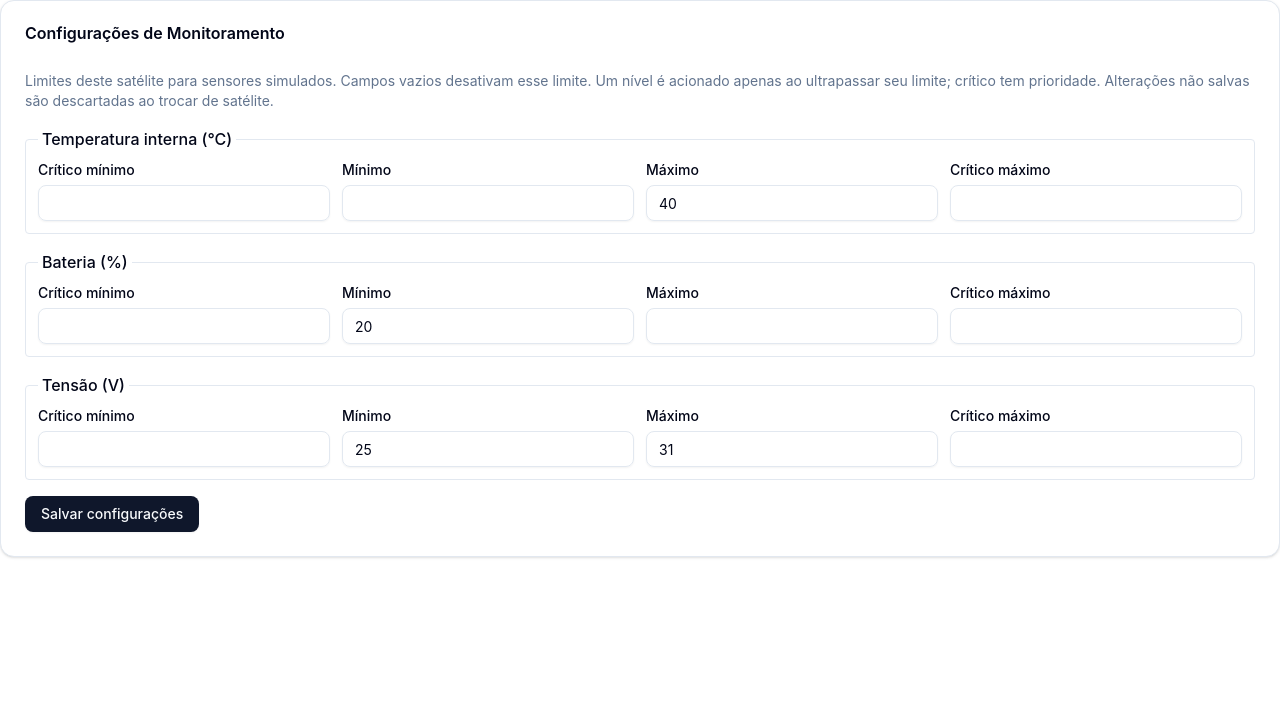
Test: US11 validation › updates the per-satellite query cache after saving
Replace the text in the 1st number field labelled "Máximo" with "75" at (792, 203), box [646, 185, 938, 221]
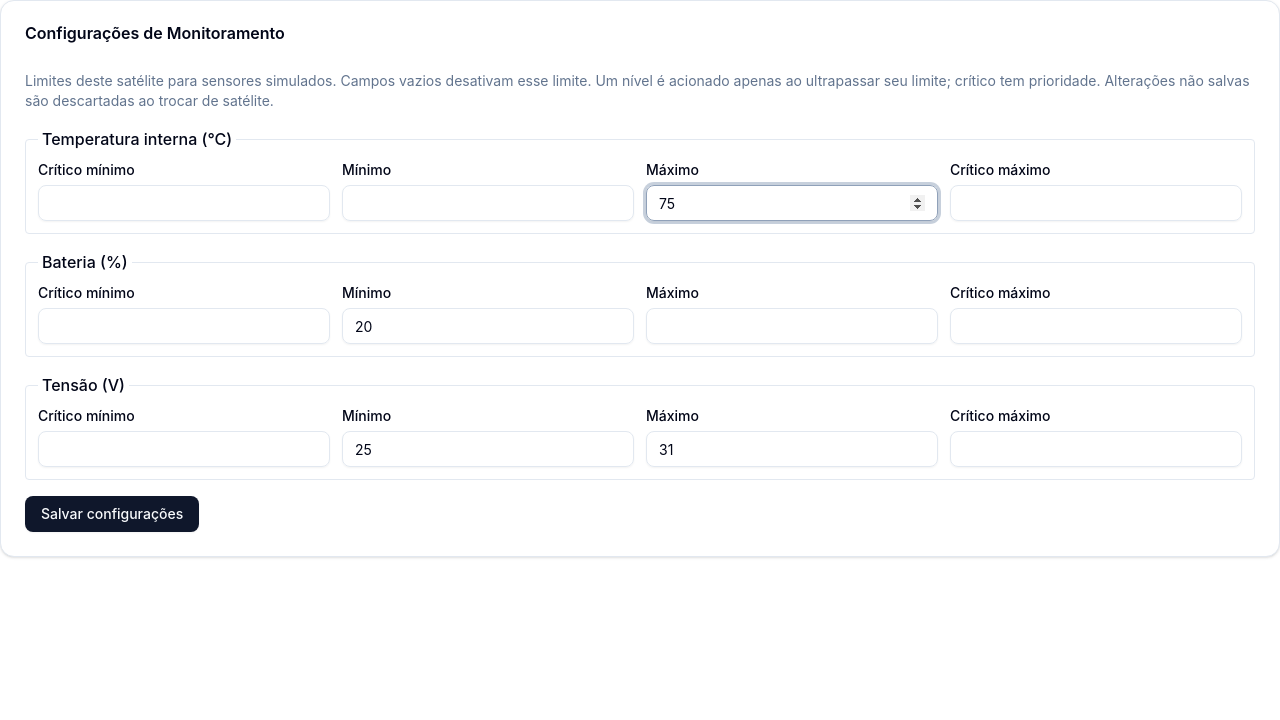
Click the button "Salvar configurações".
click(112, 514)  # box [25, 496, 199, 532]
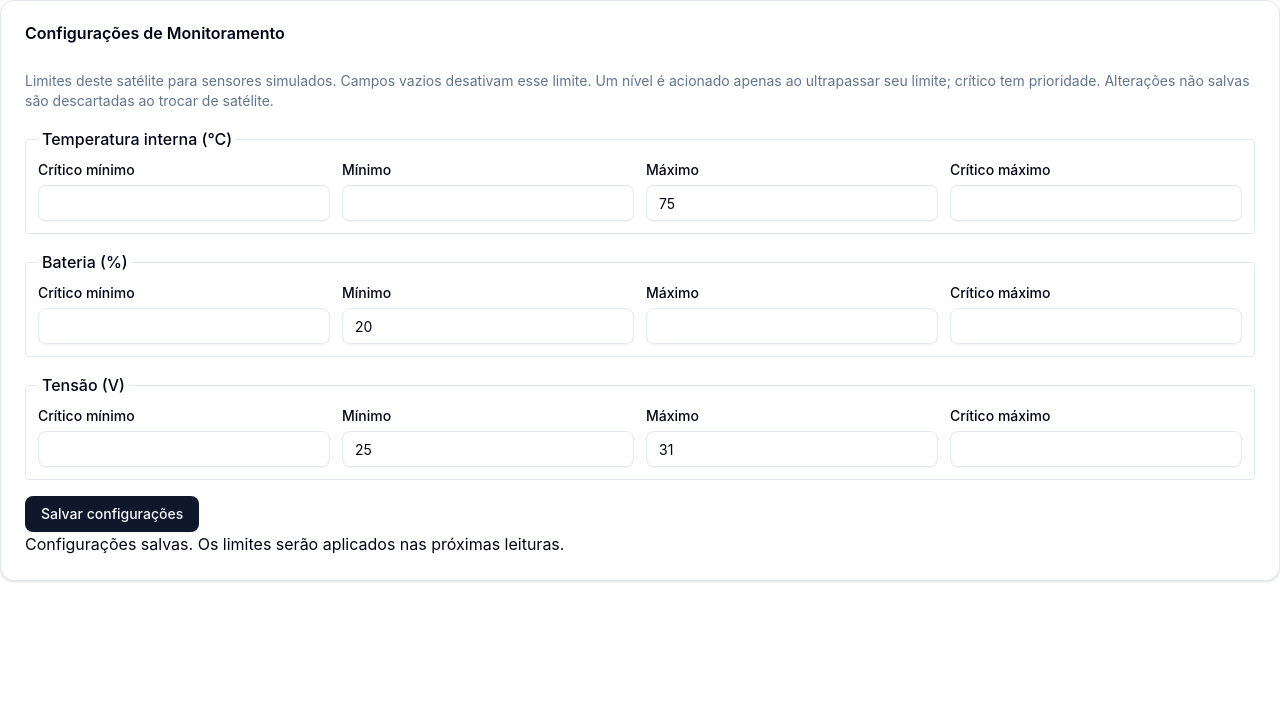
Expected: the message shows "Configurações salvas", [25, 534, 564, 554]
